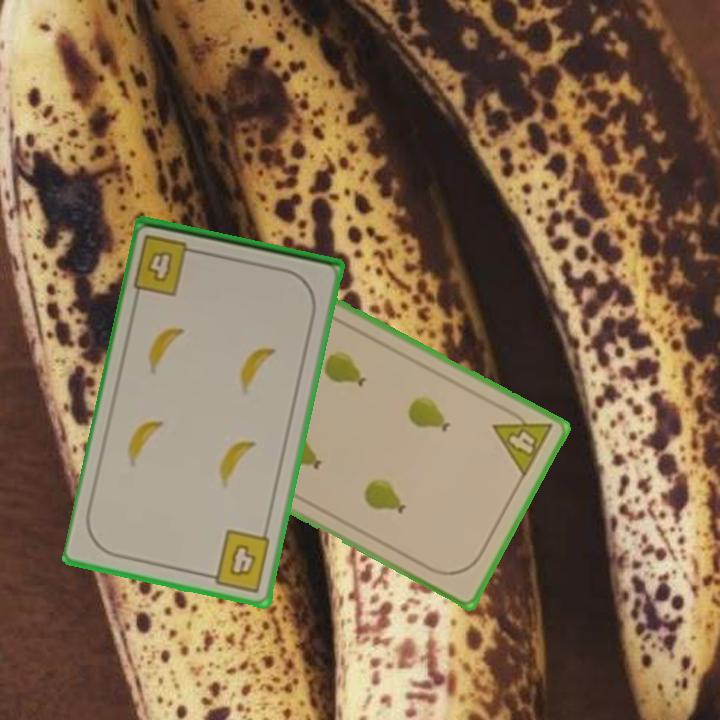4b: (130, 231, 204, 299), (202, 526, 274, 595)
4p: (489, 402, 556, 480)
